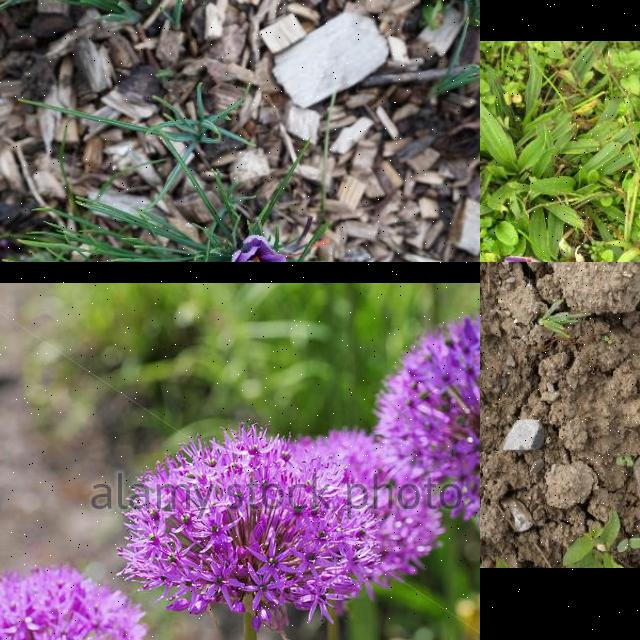flower: (228, 234, 332, 262)
